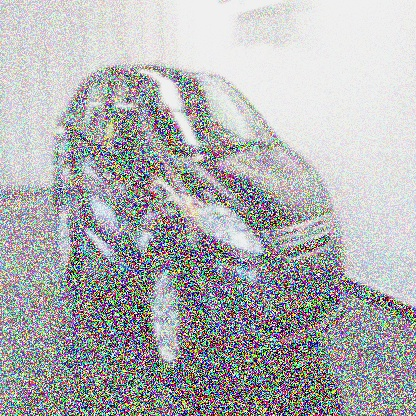Vehicle: (54, 62, 348, 384)
